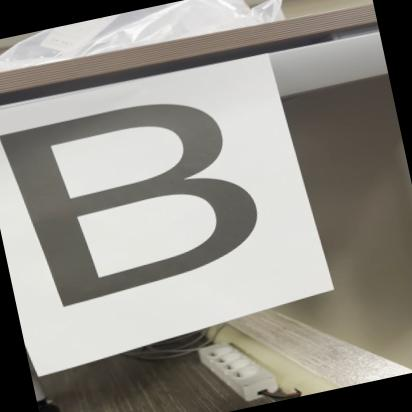seat: (0, 71, 280, 331)
